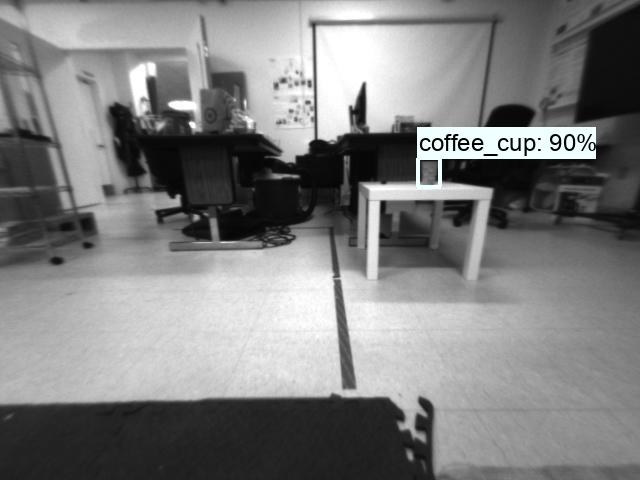coffee_cup: (416, 158, 441, 186)
